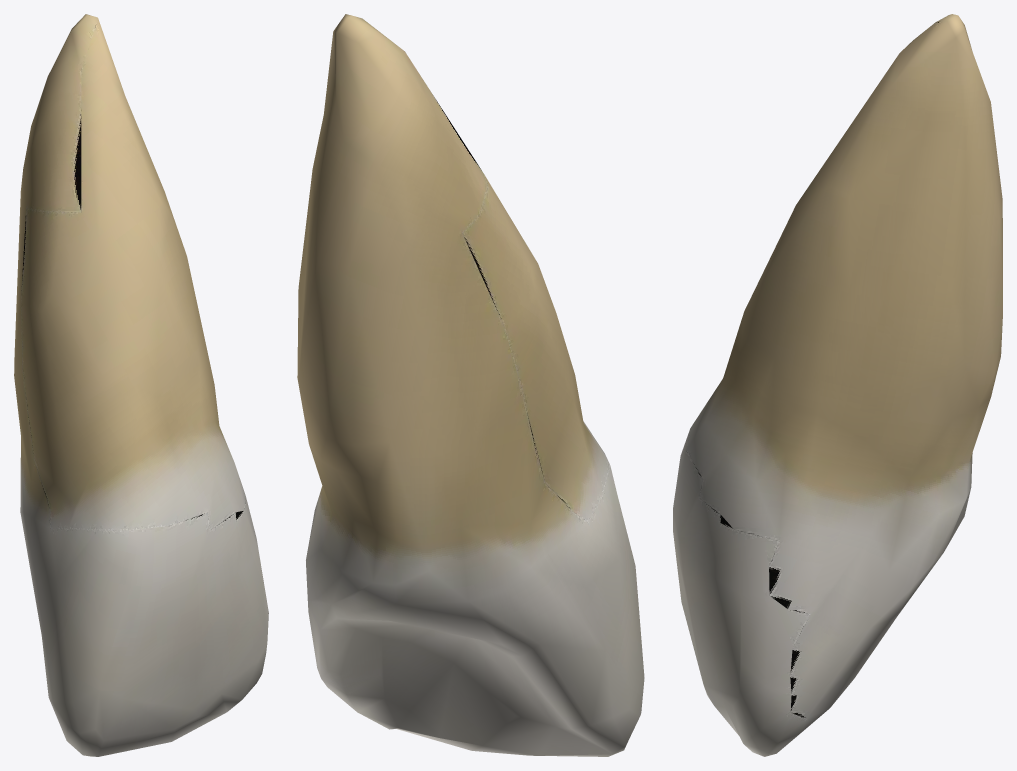
Rendered from maxillary_left_central_incisor.glb.
3 renders of one model, left to right at view 1: azimuth 30°, elevation 25°; view 2: azimuth 150°, elevation 25°; view 3: azimuth 270°, elevation 25°, orthographic. The views are drawn at different scales.
Visible parts, largest first — view 1: Object_2; view 2: Object_2; view 3: Object_2.
Boxes of the visible parts, bbox=[...] form: Object_2: bbox=[14, 14, 268, 756]; Object_2: bbox=[297, 14, 644, 756]; Object_2: bbox=[673, 14, 1002, 756].
Size of the model in its own units: 0.3182 by 0.8723 by 0.3623.
1 material, 1 textured.
